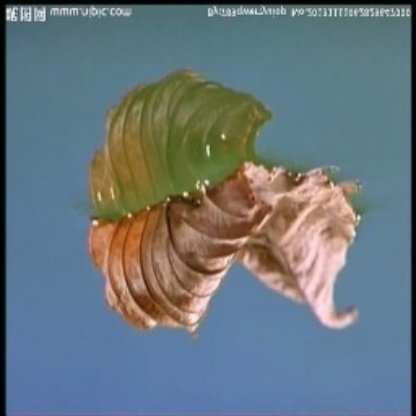leaf: (92, 160, 363, 332)
